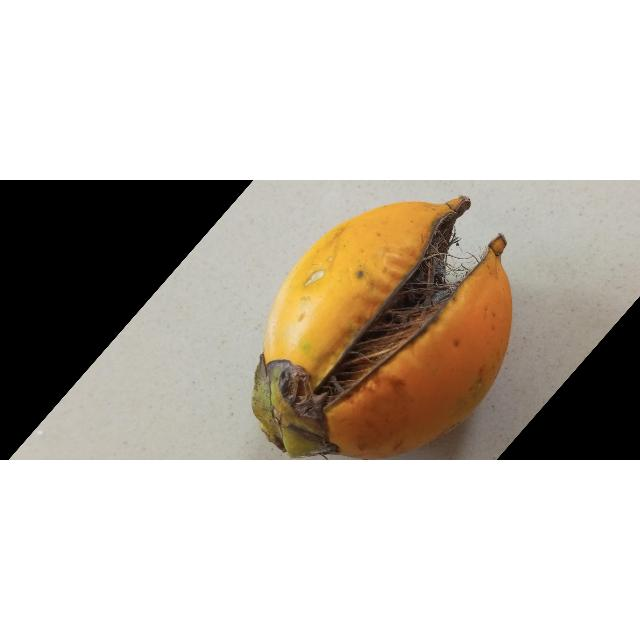damaged: (253, 196, 511, 458)
